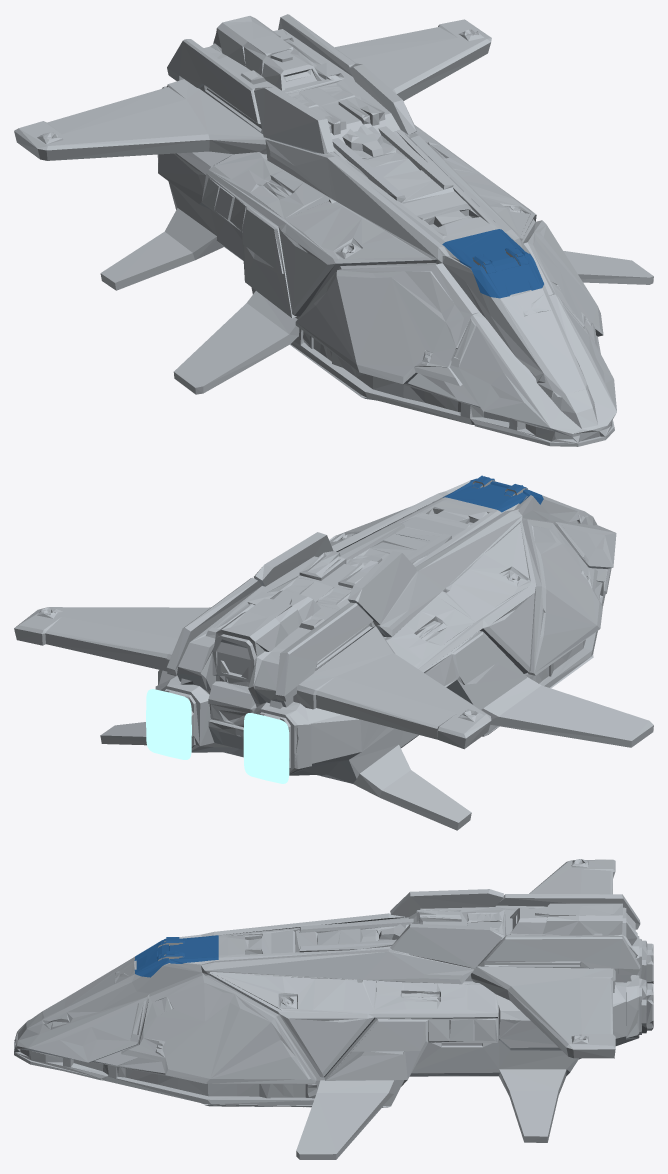
The model's file is federal-dropship.glb.
3 views of the same model, one above another, from view 1: azimuth 30°, elevation 25°; view 2: azimuth 150°, elevation 25°; view 3: azimuth 270°, elevation 25° (orthographic). The views are drawn at different scales.
Visible parts, largest first — view 1: federal-dropship; view 2: federal-dropship; view 3: federal-dropship.
Boxes of the visible parts, <box> form: federal-dropship: <box>14,14,653,446</box>; federal-dropship: <box>14,475,653,830</box>; federal-dropship: <box>14,859,653,1159</box>.
Bounding box in the file's own units: 52.28 × 20.52 × 73.9.
